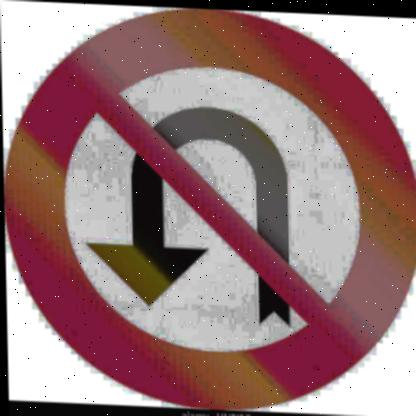No U-turn: (3, 3, 416, 413)
